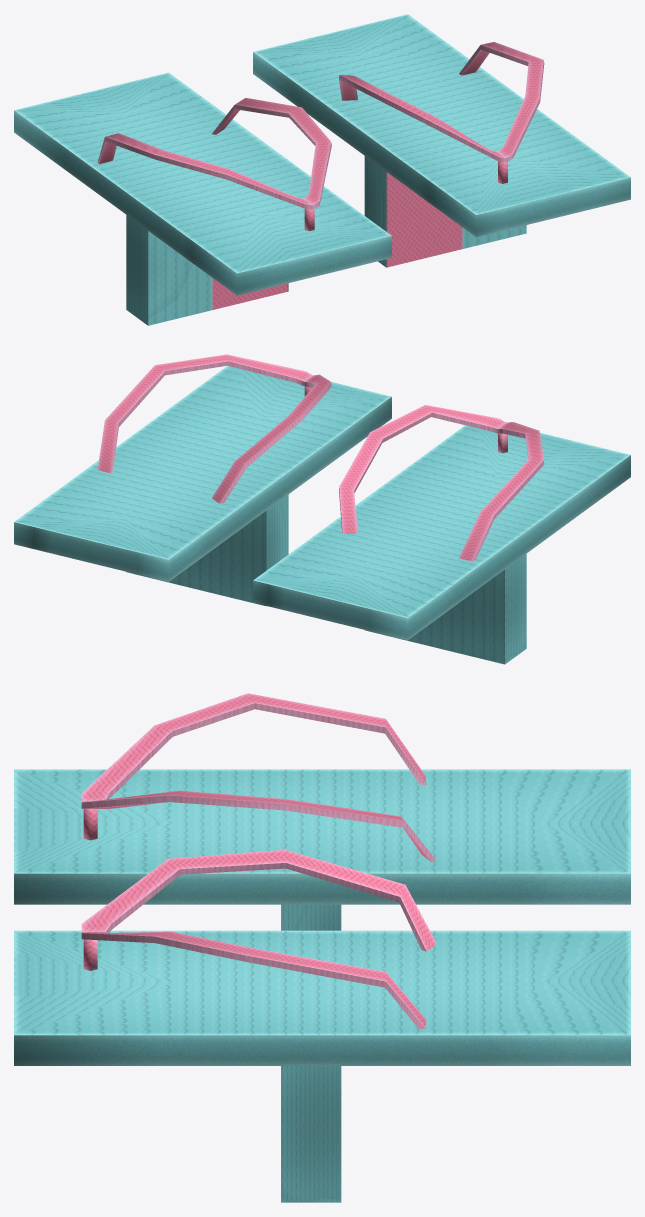
The model's file is Geta.fbx.
3 views of the same model, one above another, from view 1: azimuth 30°, elevation 25°; view 2: azimuth 150°, elevation 25°; view 3: azimuth 270°, elevation 25° (orthographic). The views are drawn at different scales.
Visible parts, largest first — view 1: flip_flops_mesh, flip_flops_mesh.001; view 2: flip_flops_mesh, flip_flops_mesh.001; view 3: flip_flops_mesh, flip_flops_mesh.001.
Boxes of the visible parts, x1=… form: flip_flops_mesh: x1=14, y1=14, x2=630, y2=325; flip_flops_mesh.001: x1=97, y1=42, x2=544, y2=231; flip_flops_mesh: x1=14, y1=366, x2=630, y2=664; flip_flops_mesh.001: x1=97, y1=354, x2=544, y2=561; flip_flops_mesh: x1=14, y1=769, x2=630, y2=1202; flip_flops_mesh.001: x1=81, y1=693, x2=436, y2=1029.
Bounding box in the file's own units: 0.00311 × 0.00136 × 0.00305.
